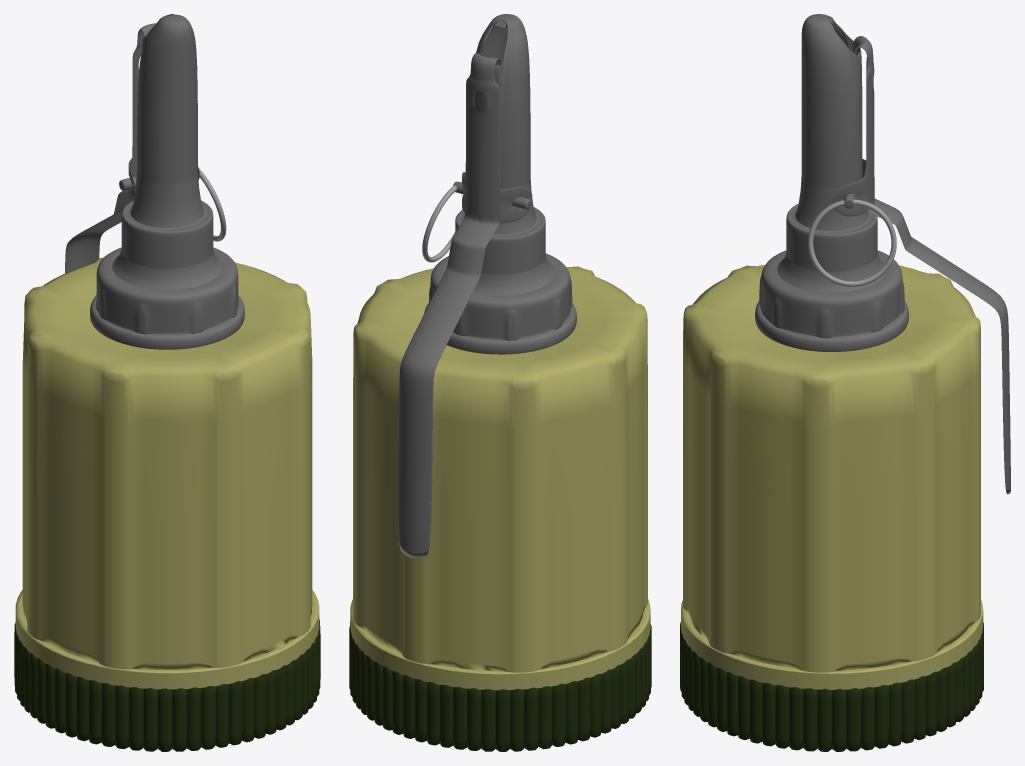
File: GasGrenade.glb
3 renders of one model, left to right at view 1: azimuth 30°, elevation 25°; view 2: azimuth 150°, elevation 25°; view 3: azimuth 270°, elevation 25°, orthographic.
Visible parts, largest first — view 1: Cylinder.001, Cylinder, Cylinder.003, Cylinder.002; view 2: Cylinder.001, Cylinder, Cylinder.003, Cylinder.002, Cylinder.004; view 3: Cylinder.001, Cylinder, Cylinder.003, Cylinder.002, Cylinder.004.
Boxes of the visible parts, left/top/right/bottom form: Cylinder.001: left=22, top=257, right=312, bottom=669; Cylinder: left=65, top=14, right=244, bottom=349; Cylinder.003: left=14, top=620, right=320, bottom=751; Cylinder.002: left=15, top=590, right=319, bottom=689; Cylinder.001: left=353, top=266, right=647, bottom=672; Cylinder: left=398, top=14, right=576, bottom=558; Cylinder.003: left=349, top=621, right=651, bottom=751; Cylinder.002: left=350, top=599, right=650, bottom=690; Cylinder.004: left=422, top=182, right=461, bottom=262; Cylinder.001: left=683, top=265, right=980, bottom=672; Cylinder: left=755, top=14, right=1010, bottom=494; Cylinder.003: left=680, top=622, right=983, bottom=751; Cylinder.002: left=681, top=600, right=983, bottom=689; Cylinder.004: left=808, top=199, right=896, bottom=286.
Size of the model in its own units: 1.08 by 2.64 by 1.18.
